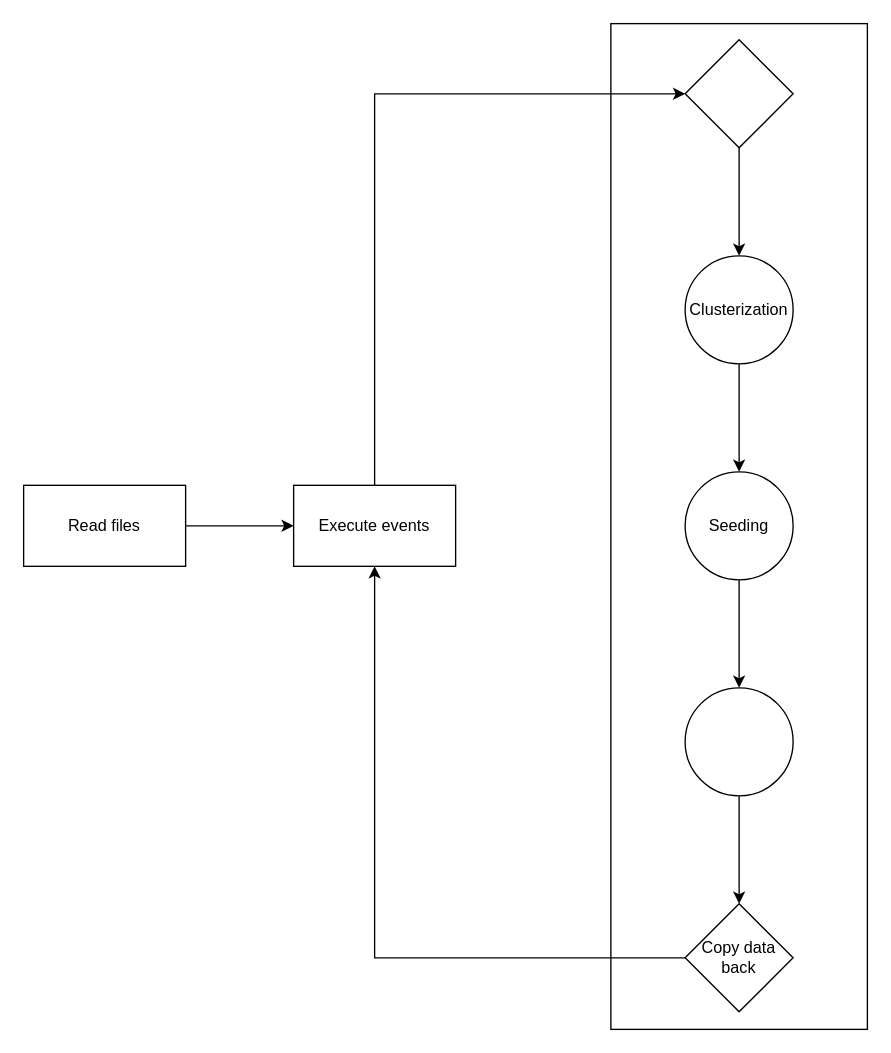
Some shapes in this 891 by 1053 pixel diagram are drawn without their labels. Here are the shapes that lost their labels. From the top down, the centre of each, then its label:
pixel 738 93: Copy data
pixel 738 741: Estimation
